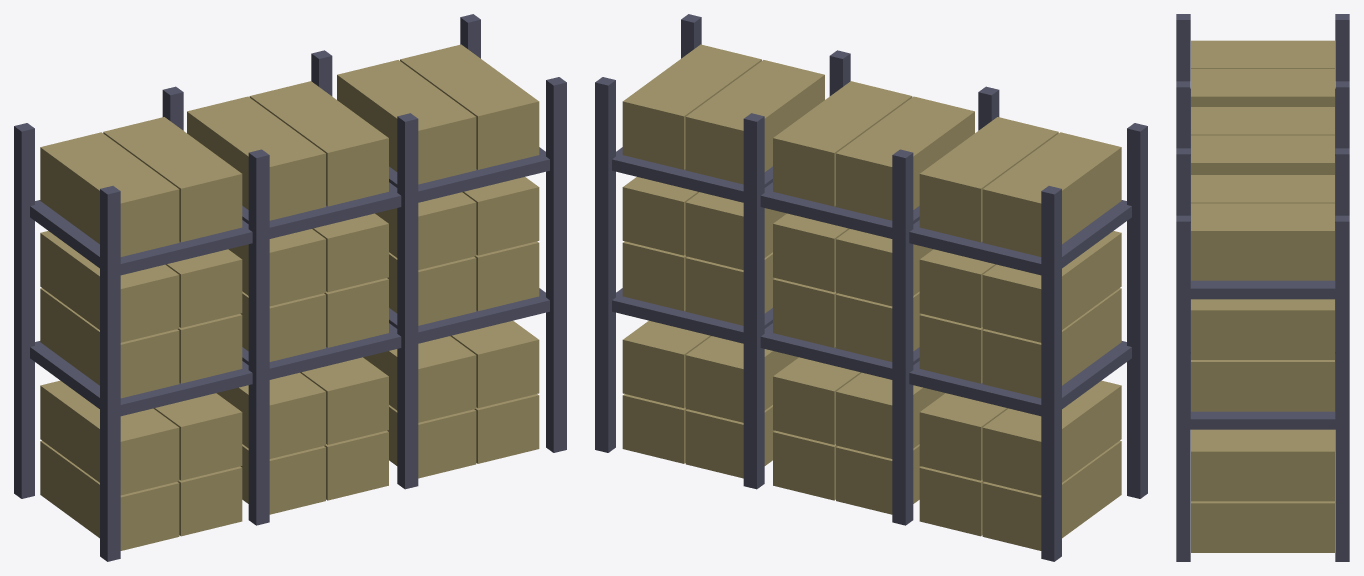
Rendered from IsleRack_LP.fbx.
3 renders of one model, left to right at view 1: azimuth 30°, elevation 25°; view 2: azimuth 150°, elevation 25°; view 3: azimuth 270°, elevation 25°, orthographic. The views are drawn at different scales.
Visible parts, largest first — view 1: Crate_25, Crate_35, Crate_29, Crate_11, Crate_26, Crate_36, Crate_30, Pole_3, Pole_2, Pole_8, Pole_4, Pole_5 (+32 smaller); view 2: Crate_25, Crate_35, Crate_29, Crate_11, Crate_26, Crate_36, Crate_30, Pole_6, Pole_1, Pole_5, Pole_7, Pole_8 (+32 smaller); view 3: Crate_36, Crate_8, Crate_21, Crate_6, Crate_24, Crate_30, Crate_26, Pole_4, Pole_7, Crate_25, Crate_29, Crate_35 (+8 smaller).
Part boxes in pixels (bbox=[...]): Crate_25: bbox=[40, 132, 179, 256]; Crate_35: bbox=[337, 60, 476, 184]; Crate_29: bbox=[187, 96, 325, 220]; Crate_11: bbox=[40, 380, 179, 495]; Crate_26: bbox=[103, 117, 242, 242]; Crate_36: bbox=[400, 44, 539, 169]; Crate_30: bbox=[249, 81, 388, 206]; Pole_3: bbox=[248, 149, 269, 525]; Pole_2: bbox=[397, 113, 418, 489]; Pole_8: bbox=[100, 186, 120, 561]; Pole_4: bbox=[546, 77, 566, 452]; Pole_5: bbox=[14, 123, 34, 498]; Crate_25: bbox=[982, 132, 1121, 256]; Crate_35: bbox=[685, 60, 824, 184]; Crate_29: bbox=[836, 96, 974, 220]; Crate_11: bbox=[982, 380, 1121, 495]; Crate_26: bbox=[919, 117, 1058, 242]; Crate_36: bbox=[622, 44, 761, 169]; Crate_30: bbox=[773, 81, 912, 206]; Pole_6: bbox=[892, 149, 913, 525]; Pole_1: bbox=[743, 113, 764, 489]; Pole_5: bbox=[1041, 186, 1061, 561]; Pole_7: bbox=[595, 77, 615, 452]; Pole_8: bbox=[1127, 123, 1147, 498]; Crate_36: bbox=[1191, 203, 1334, 280]; Crate_8: bbox=[1191, 429, 1334, 501]; Crate_21: bbox=[1191, 299, 1334, 359]; Crate_6: bbox=[1191, 501, 1334, 552]; Crate_24: bbox=[1191, 360, 1334, 411]; Crate_30: bbox=[1191, 135, 1334, 174]; Crate_26: bbox=[1191, 69, 1334, 106]; Pole_4: bbox=[1176, 215, 1190, 561]; Pole_7: bbox=[1335, 215, 1349, 561]; Crate_25: bbox=[1191, 40, 1334, 68]; Crate_29: bbox=[1191, 107, 1334, 135]; Crate_35: bbox=[1191, 175, 1334, 203].
Bounding box in the file's own units: 18.53 × 14.17 × 6.53.
